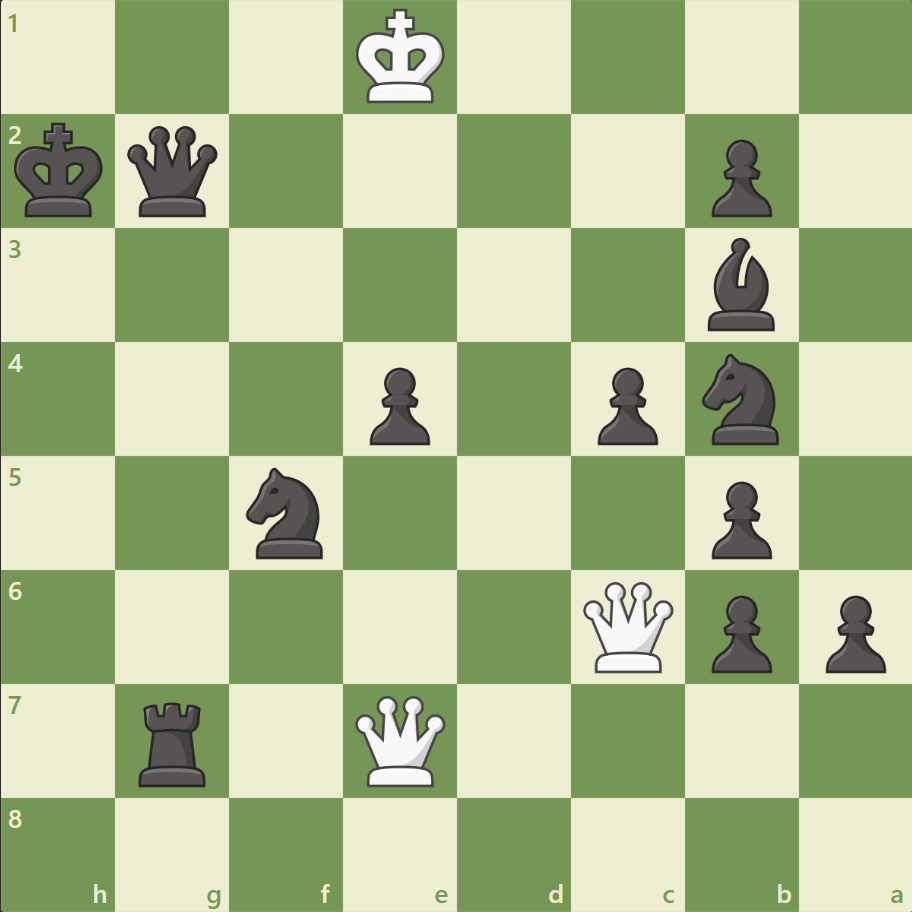K: (351, 4, 451, 112)
Q: (578, 576, 677, 676), (351, 690, 450, 789)
b: (698, 233, 782, 336)
k: (11, 117, 111, 225)
n: (238, 461, 335, 564), (692, 348, 789, 450)
p: (701, 586, 776, 677), (701, 473, 776, 564), (701, 132, 776, 223), (815, 586, 889, 677), (588, 359, 662, 450), (361, 359, 435, 450)
q: (124, 122, 223, 222)
r: (133, 693, 215, 790)
